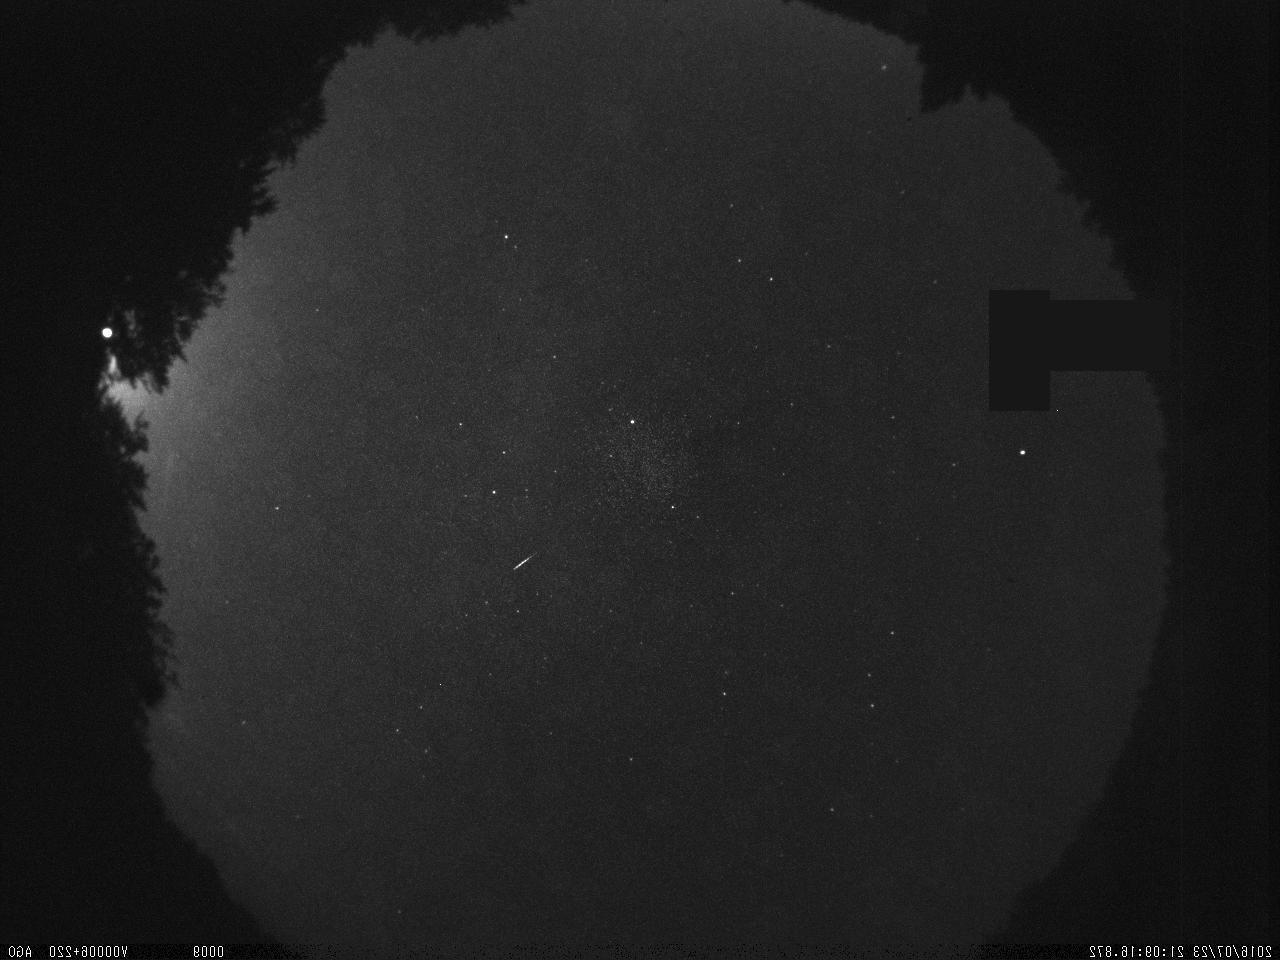meteor: (505, 546, 542, 576)
